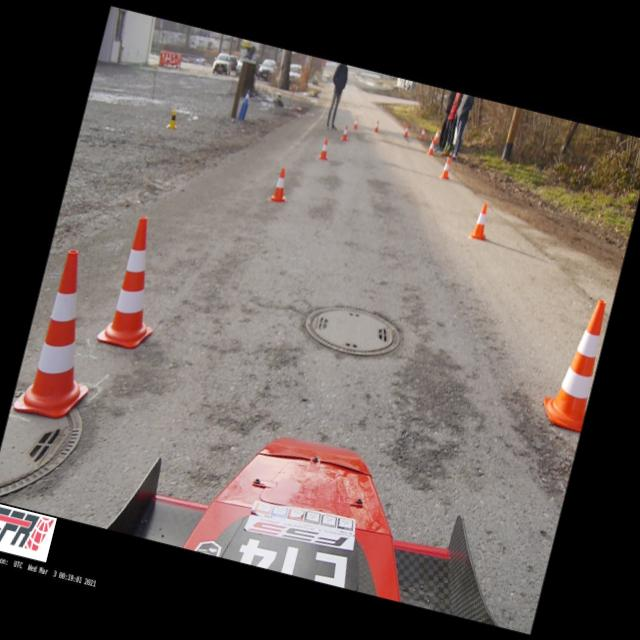blue_cone: (243, 89, 251, 103)
large_orange_cone: (12, 244, 120, 426), (95, 212, 178, 352), (538, 292, 612, 432)
orange_cone: (468, 201, 494, 241), (268, 167, 294, 204), (438, 156, 454, 180), (318, 137, 332, 160), (426, 138, 436, 156), (340, 124, 350, 141), (432, 128, 441, 142), (352, 117, 360, 130), (403, 124, 410, 138), (373, 120, 380, 132), (419, 128, 426, 140)
yellow_cone: (166, 108, 180, 130)
